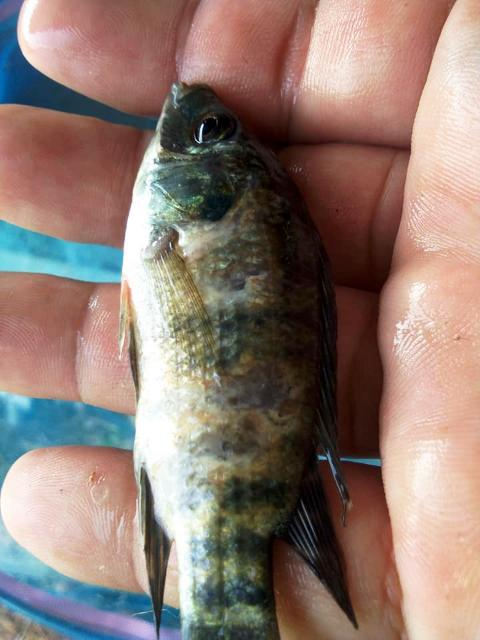Columnaris Disease: (121, 83, 356, 639), (121, 83, 355, 639)
